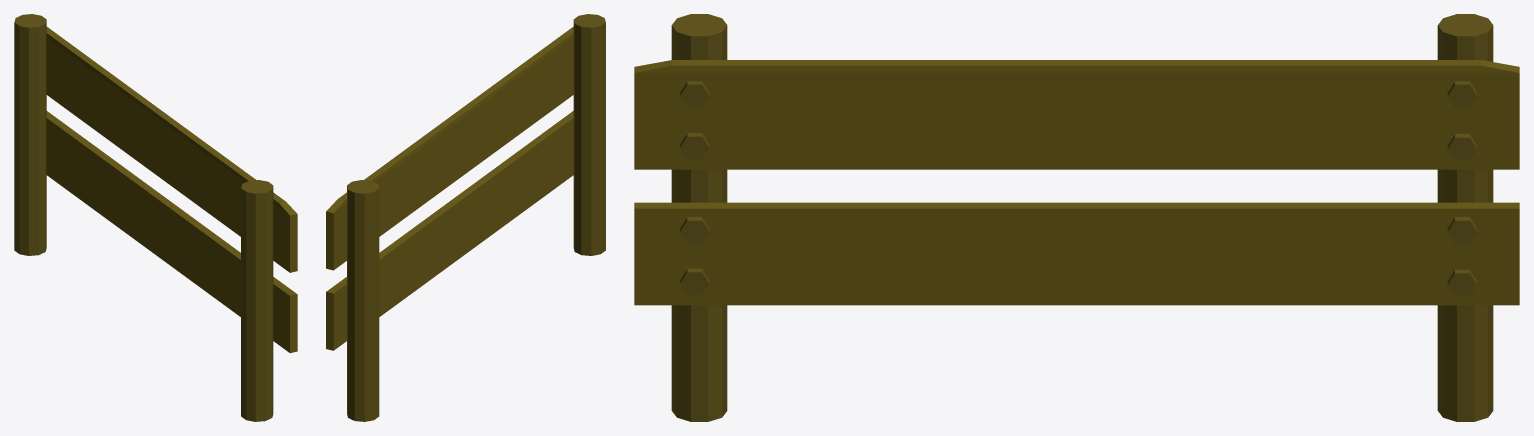
The model's file is cerca-clara 1.fbx.
3 renders of one model, left to right at view 1: azimuth 30°, elevation 25°; view 2: azimuth 150°, elevation 25°; view 3: azimuth 270°, elevation 25°, orthographic. The views are drawn at different scales.
Visible parts, largest first — view 1: Cylinder; view 2: Cylinder; view 3: Cylinder.
Boxes of the visible parts, <box> form: Cylinder: <box>14,14,297,421</box>; Cylinder: <box>326,14,605,421</box>; Cylinder: <box>634,14,1519,421</box>.
Size of the model in its own units: 275 by 1528 by 3179.
